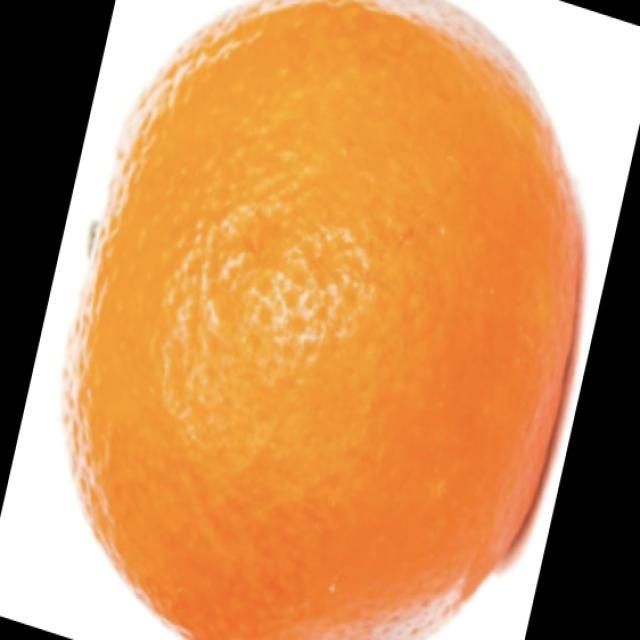Orange: (60, 0, 586, 639)
